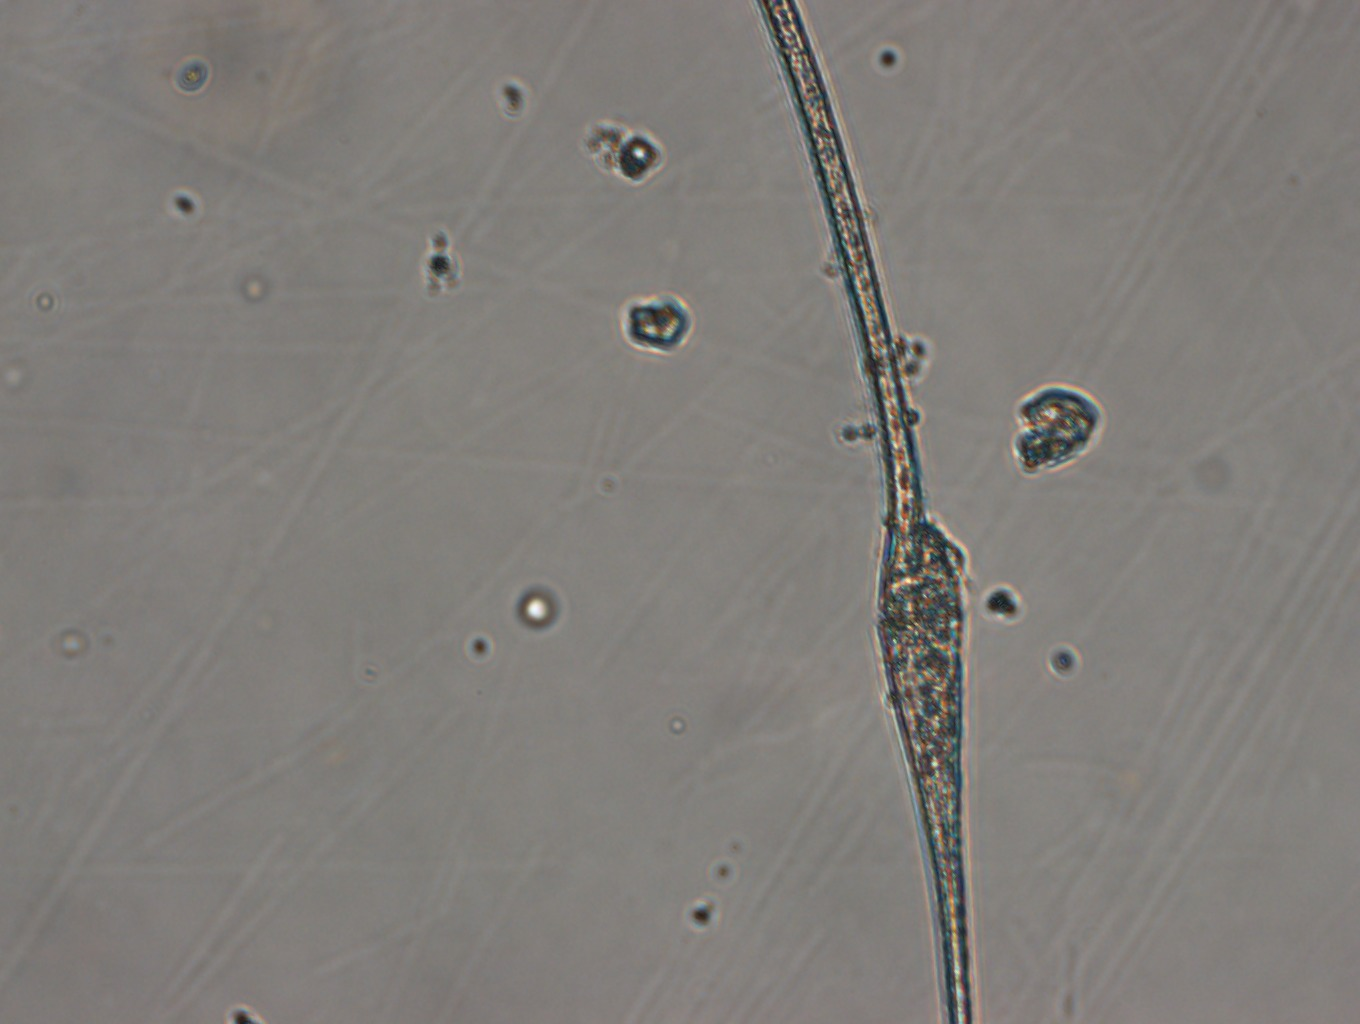ceratium fusus: (757, 1, 980, 1024)
